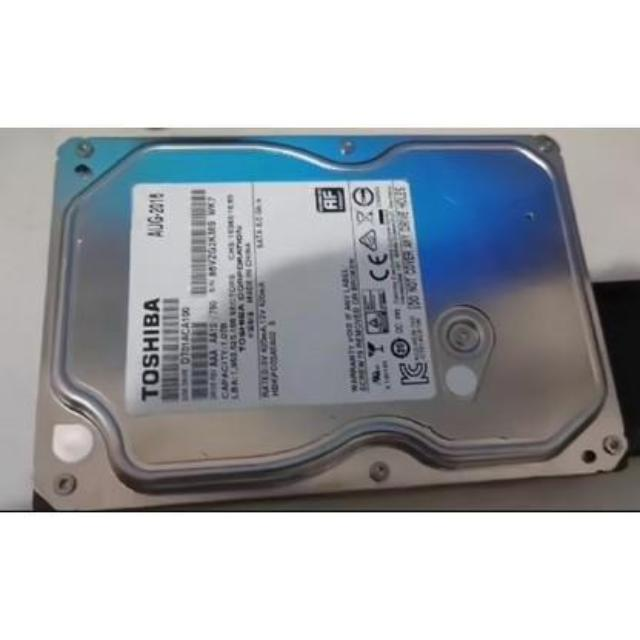DISK: (38, 137, 638, 506)
